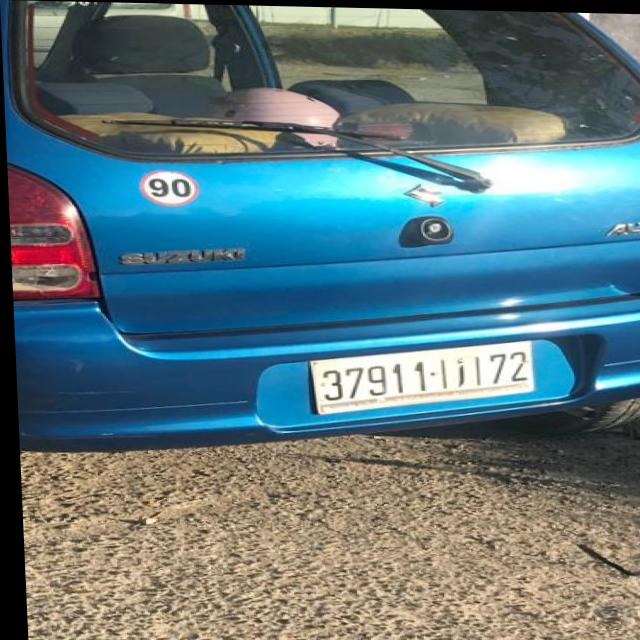License-Plate: (309, 340, 530, 413)
